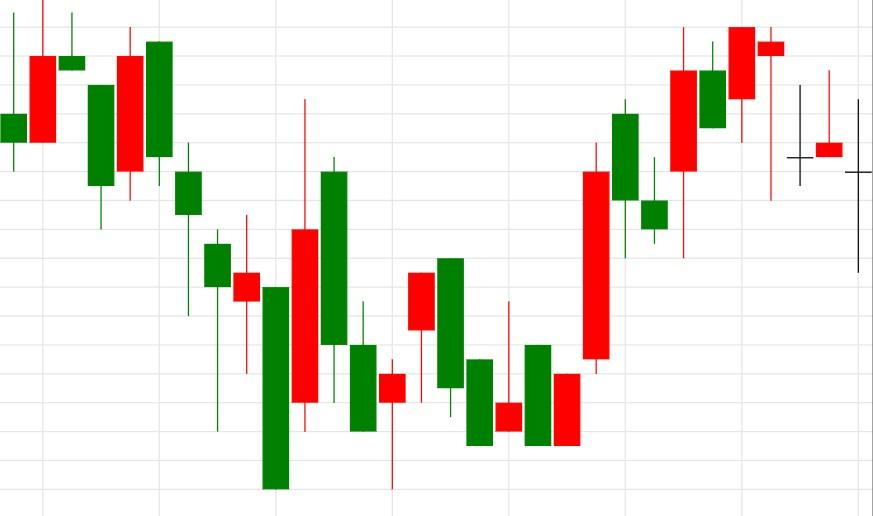hammer_rise: (320, 157, 407, 489)
three_black_crows_fall: (87, 26, 232, 431)
